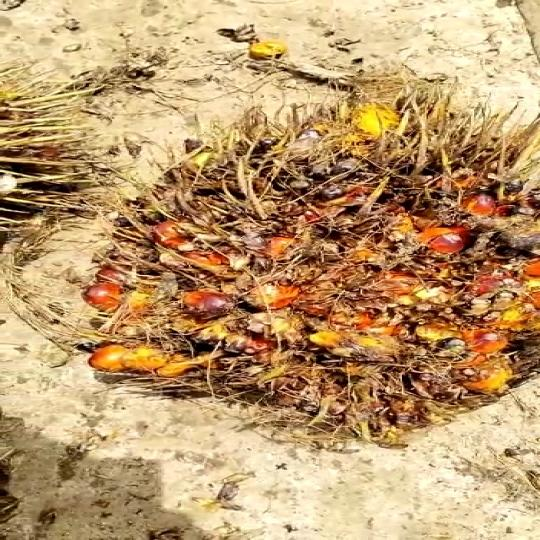terlalu masak: (93, 84, 540, 486)
